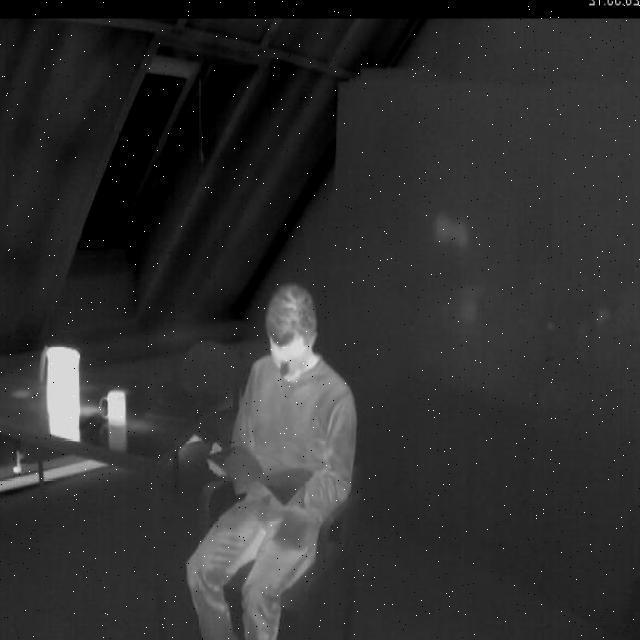person: (178, 282, 358, 640)
